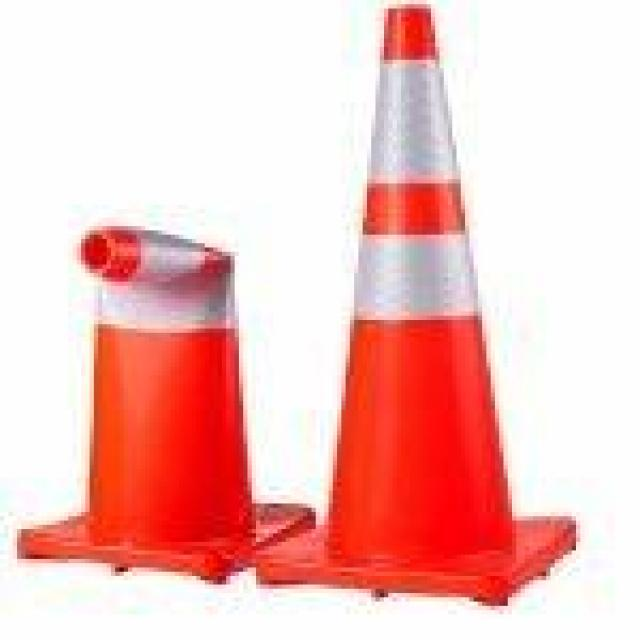cone: (259, 2, 578, 595), (11, 150, 299, 600)
